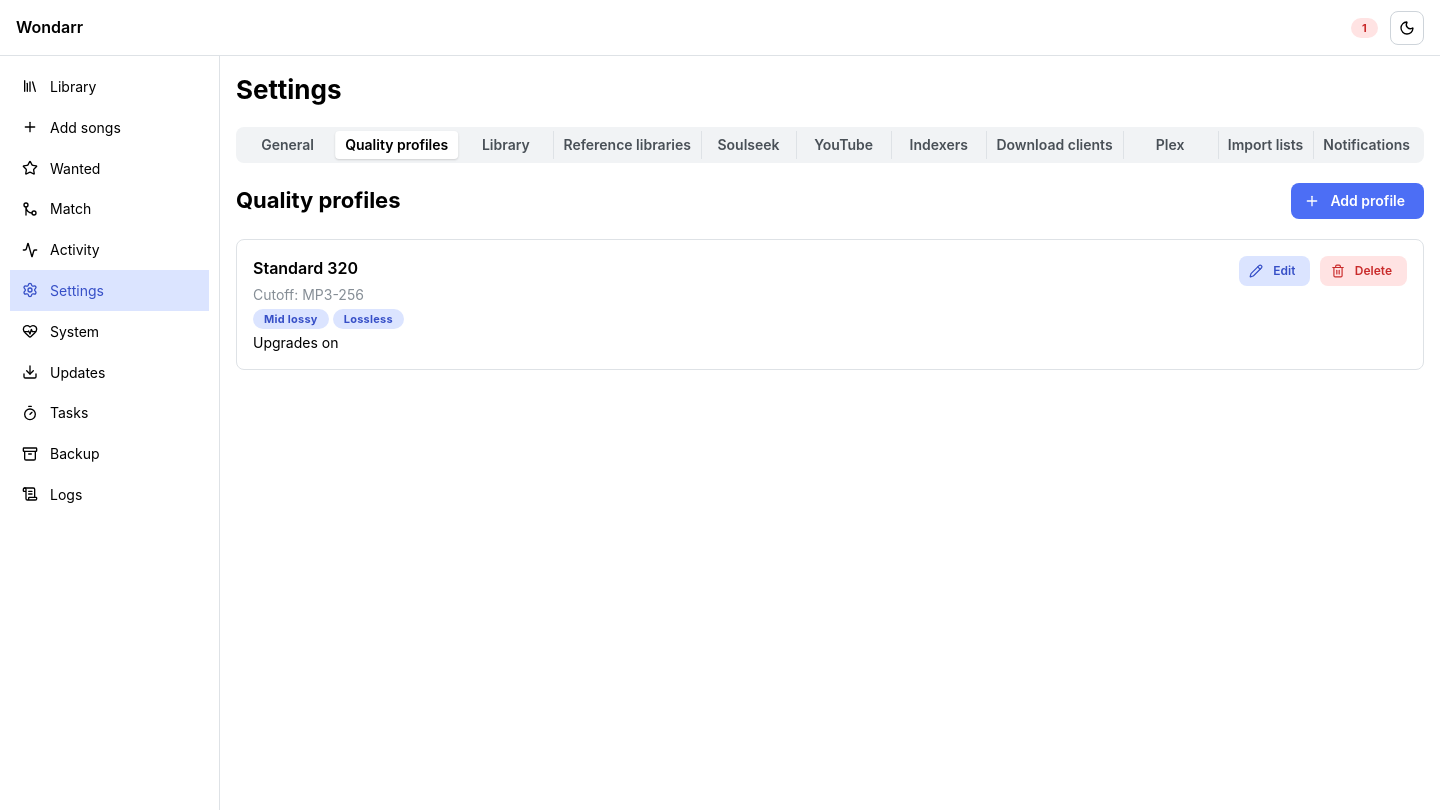
QualityProfilesPage › shows a server validation message under the field it names
Click the button "Edit": (1275,271) [1239, 256, 1310, 286]
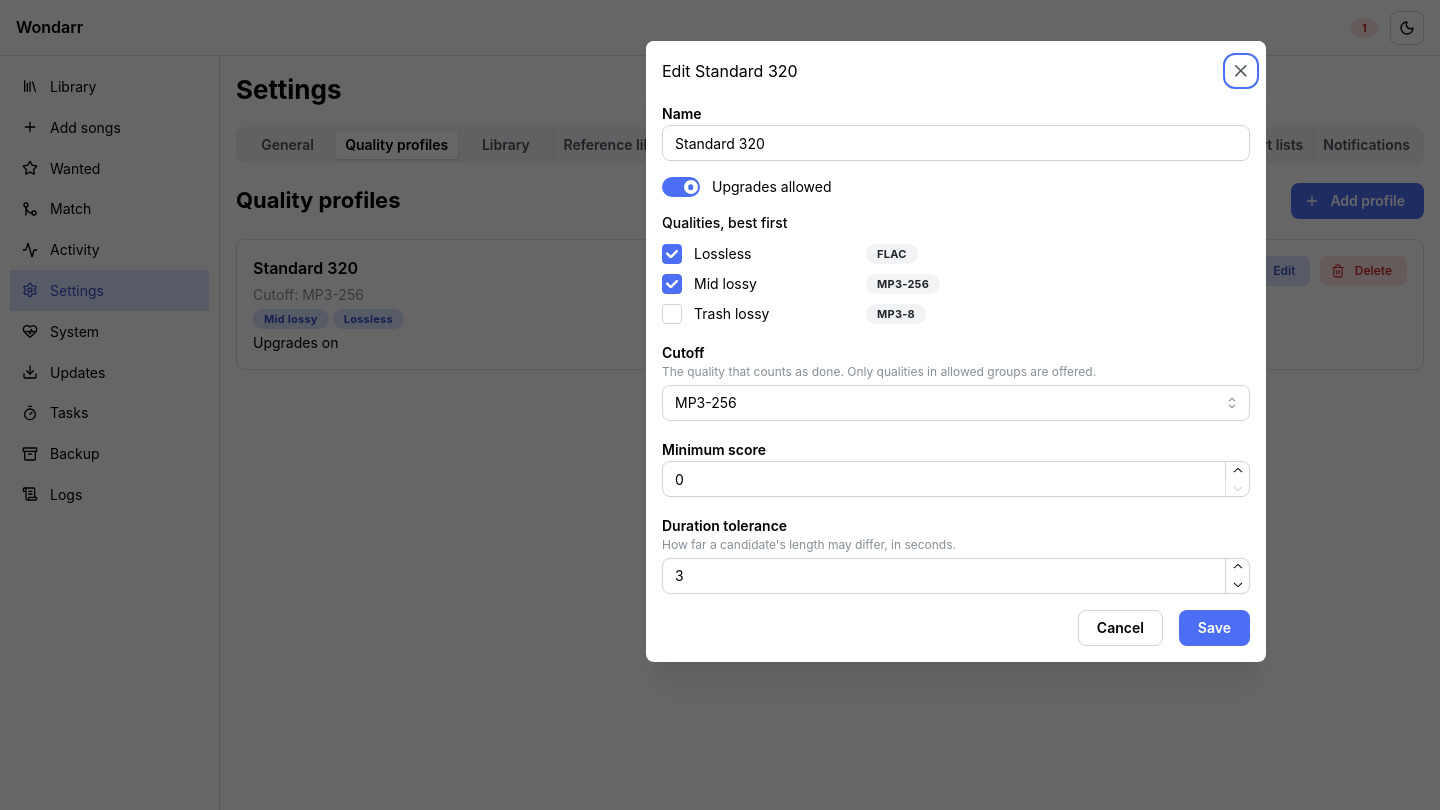
Click the button "Save": (1214,628) [1179, 610, 1250, 646]
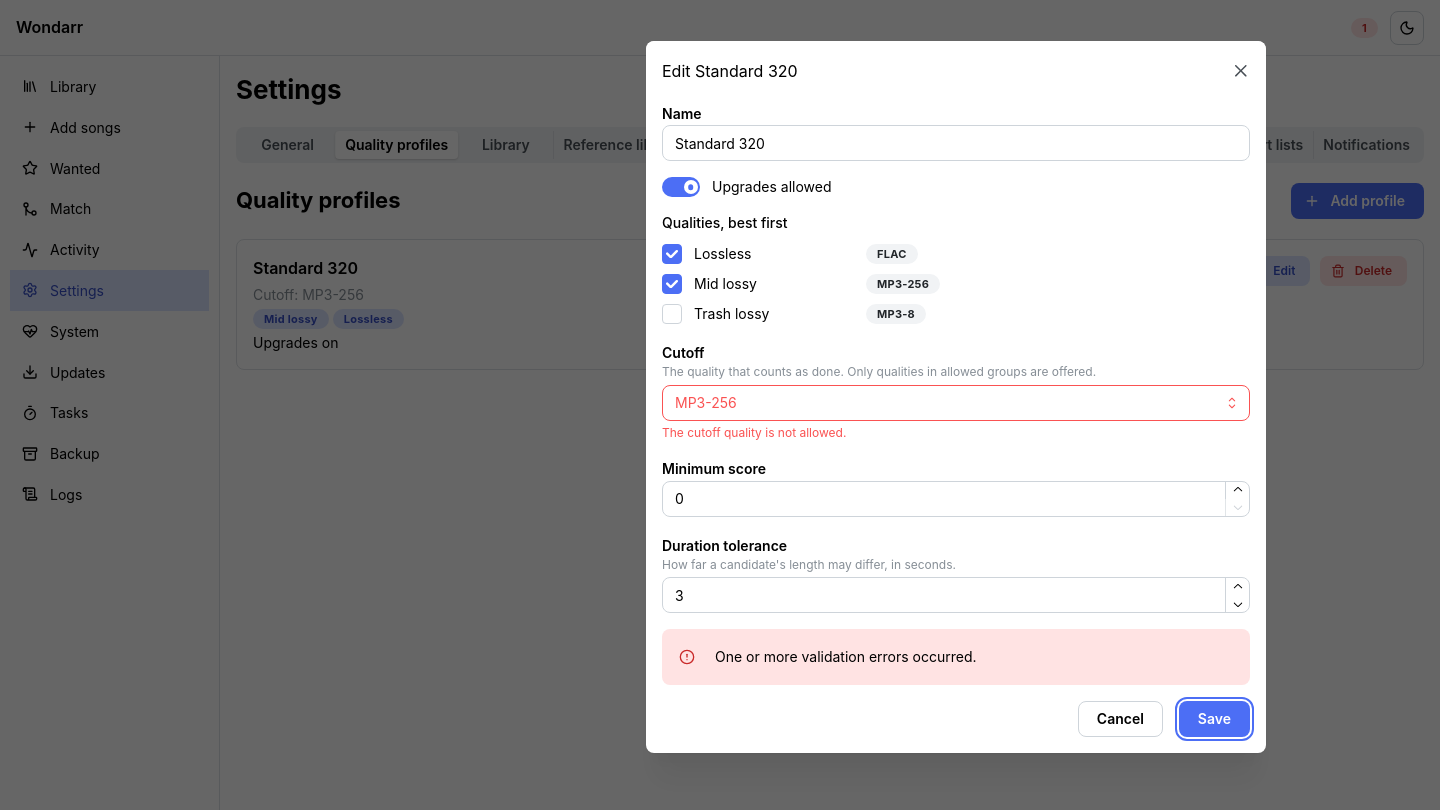
Result: the text "The cutoff quality is not allowed." is shown at [662, 425, 846, 440]
